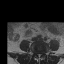CCS_stenosis: (38, 51, 39, 59)
LFS_severe_stenosis: (41, 51, 43, 56)
LLS_stenosis: (39, 52, 41, 57)
RFS_severe_stenosis: (34, 51, 36, 56)
RLS_severe_stenosis: (36, 52, 38, 56)
